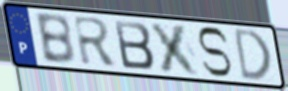B: (33, 12, 78, 67), (111, 18, 156, 71)
D: (232, 26, 273, 82)
R: (71, 14, 120, 68)
S: (195, 25, 234, 79)
X: (147, 20, 203, 78)
